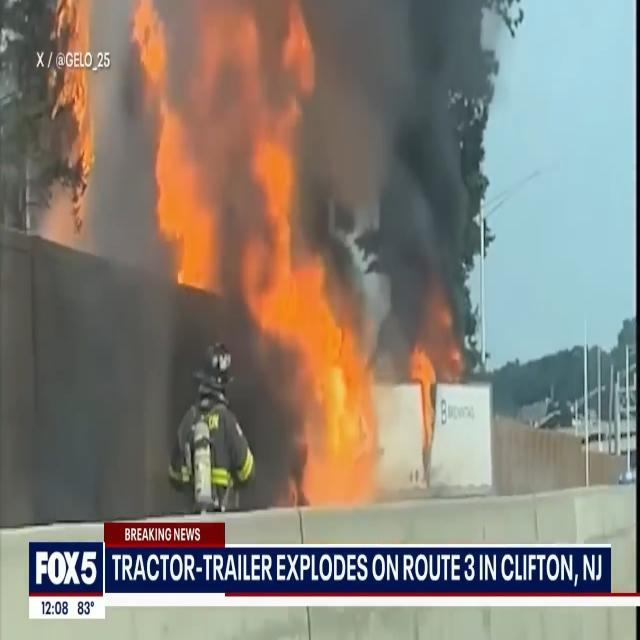fire: (120, 5, 320, 290), (252, 232, 388, 501), (39, 0, 93, 156)
